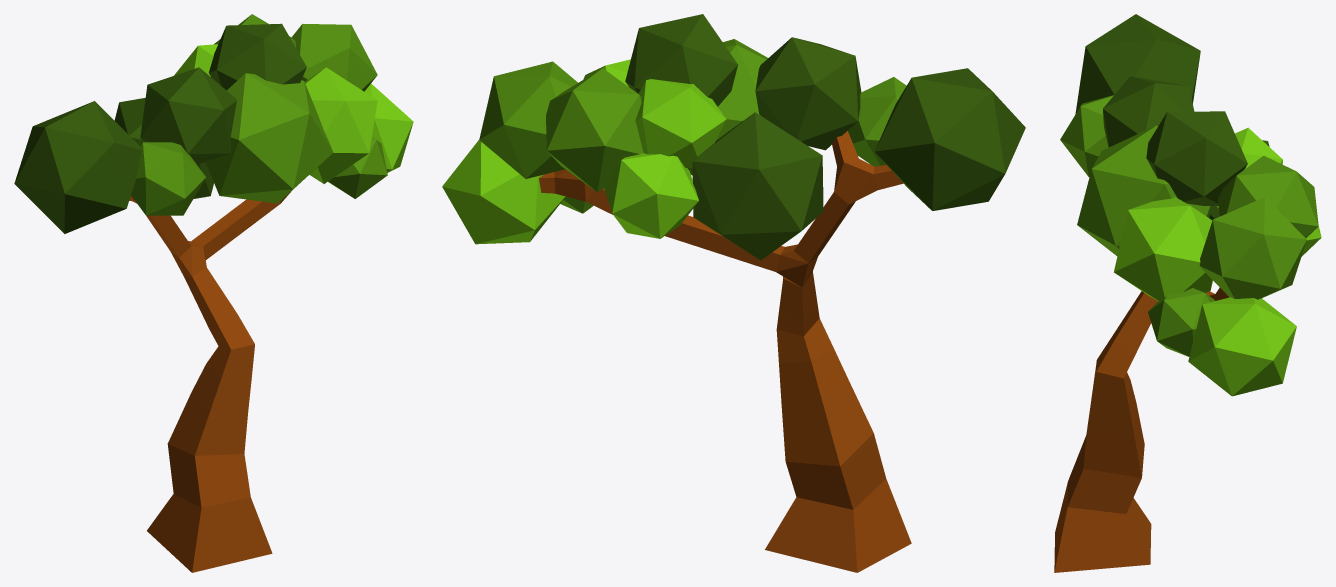
File: Medium Ico Tree.fbx
3 views of the same model, side by side, from view 1: azimuth 30°, elevation 25°; view 2: azimuth 150°, elevation 25°; view 3: azimuth 270°, elevation 25° (orthographic). The views are drawn at different scales.
Visible parts, largest first — view 1: Cube; view 2: Cube; view 3: Cube.
Part boxes in pixels (x1,y1,x2,y2): Cube: (14,14,413,572); Cube: (442,14,1025,572); Cube: (1054,14,1321,572).
Size of what is drawn, in the model's own units: 436 by 451 by 226.
